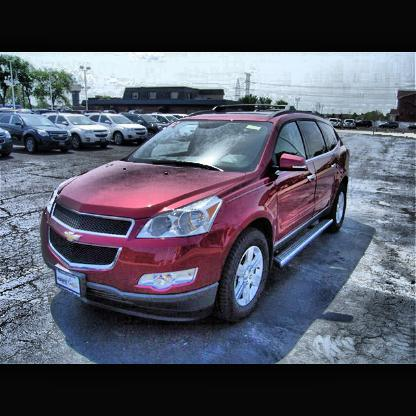Chevrolet Traverse SUV 2012: (41, 103, 354, 325)
